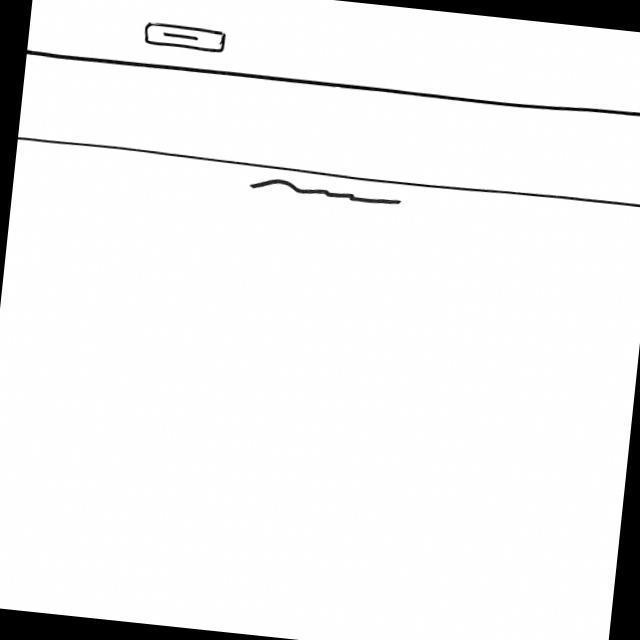container: (27, 1, 640, 122)
icon-button: (142, 21, 230, 56)
text: (245, 176, 406, 210)
